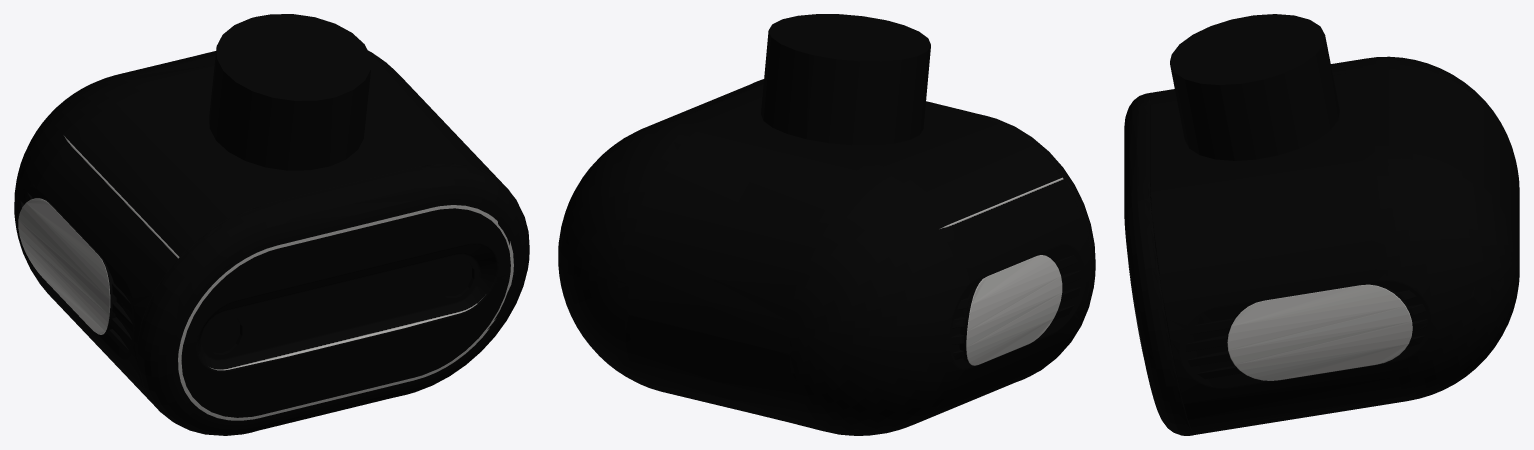
Rendered from zed_link.usd.sapien.glb.
3 views of the same model, side by side, from view 1: azimuth 30°, elevation 25°; view 2: azimuth 150°, elevation 25°; view 3: azimuth 270°, elevation 25° (orthographic). The views are drawn at different scales.
Visible parts, largest first — view 1: zed_link; view 2: zed_link; view 3: zed_link.
Part boxes in pixels (x1=…): zed_link: x1=14, y1=14, x2=529, y2=435; zed_link: x1=558, y1=14, x2=1095, y2=435; zed_link: x1=1124, y1=14, x2=1519, y2=435.
Size of the model in its own units: 0.201 by 0.1707 by 0.1757.
1 material, 1 textured.
